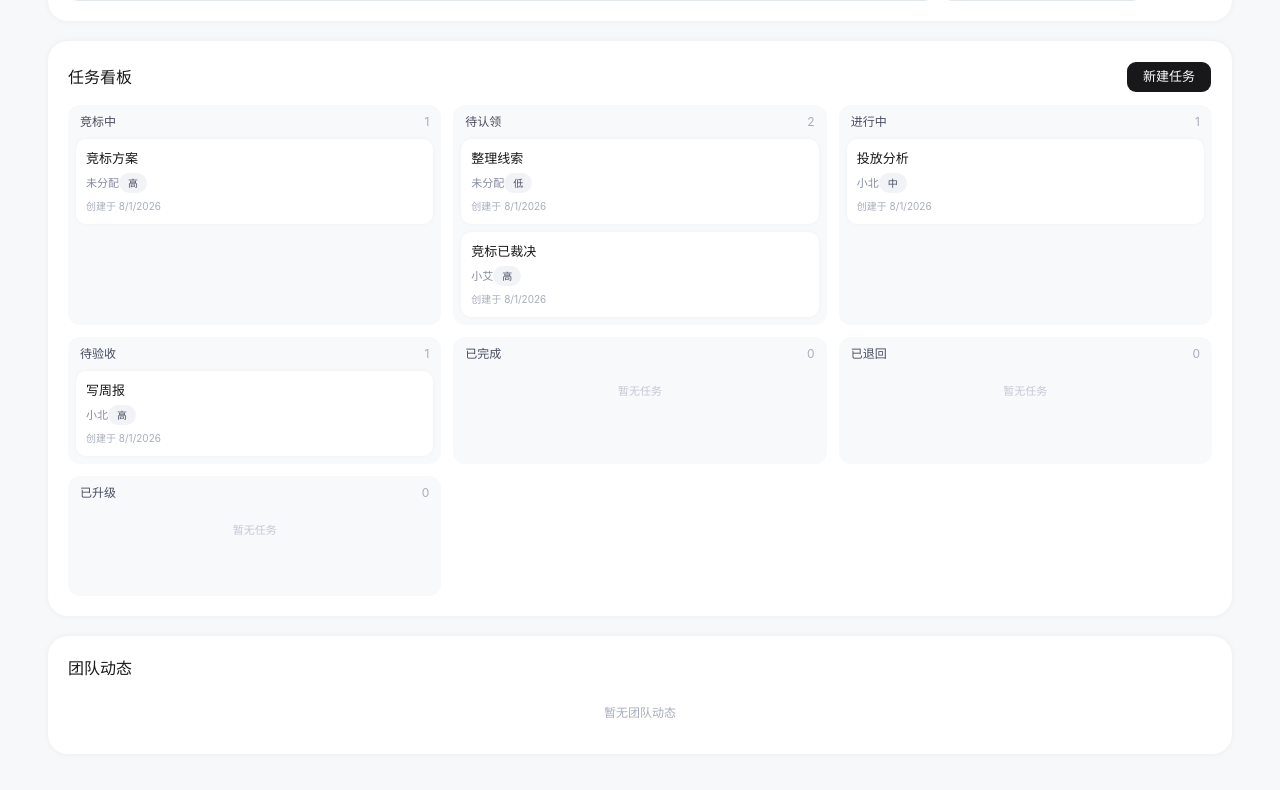
Test: TeamDetailPage › renders the review verdict as a prominent banner with the comment quote
This screenshot has width=1280, height=790.
(page scrolled)
What coordinates should you click on to do the following:
click the text "写周报"
I would click on:
 (106, 390)
Its box is x1=86 y1=381 x2=125 y2=399.
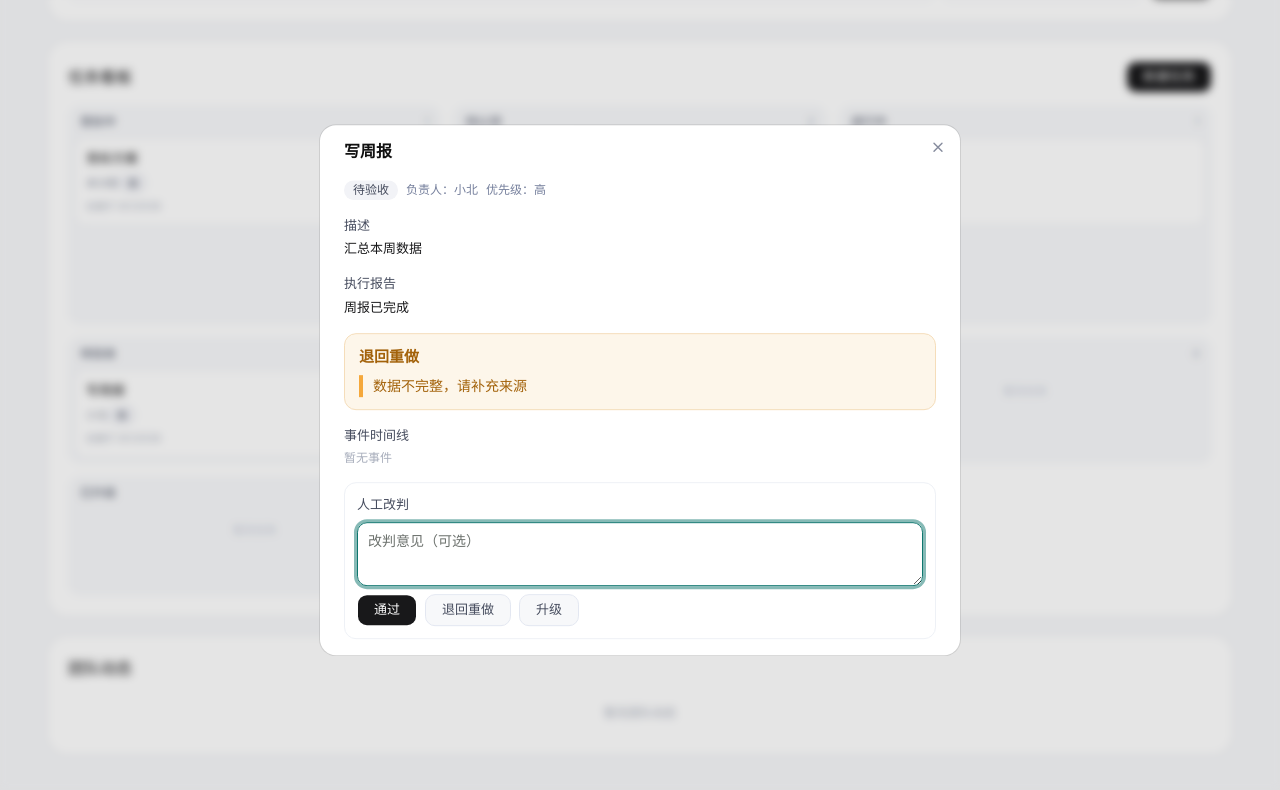
Result: the text "退回重做" is shown at x1=359 y1=347 x2=419 y2=366
